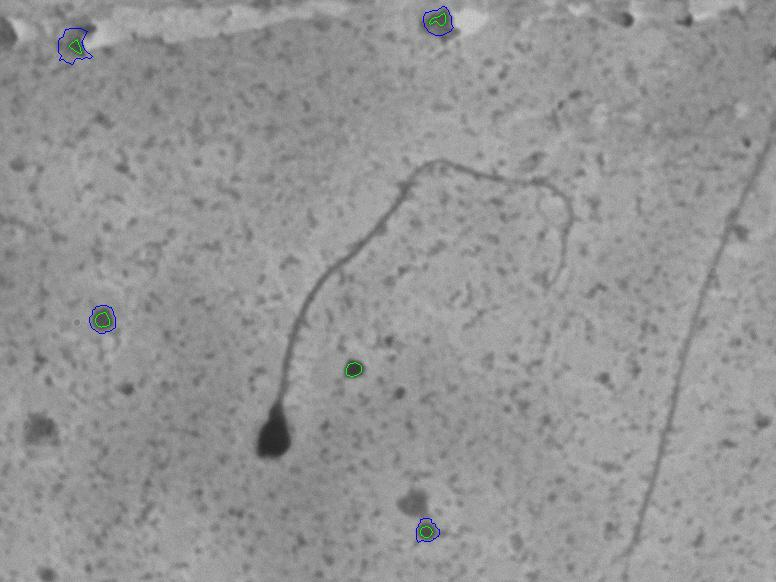Abnormal: (223, 111, 602, 505)
